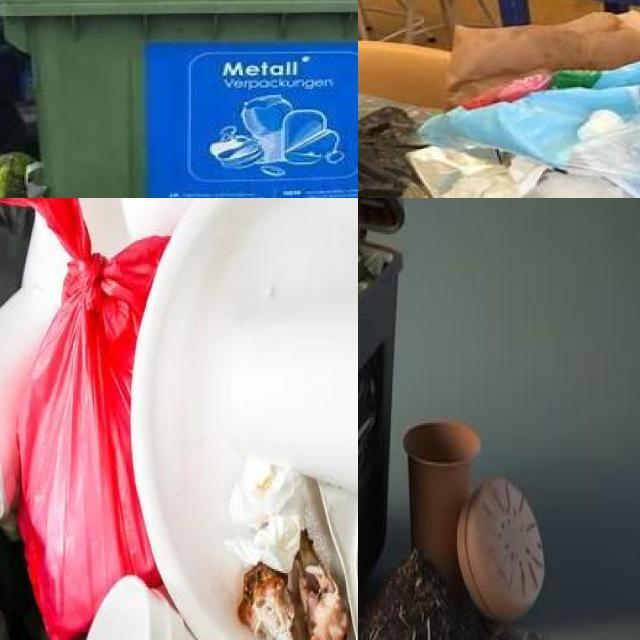Disposable: (135, 198, 358, 640), (232, 300, 358, 491), (0, 284, 58, 520), (86, 577, 197, 640), (320, 482, 358, 640), (22, 215, 68, 303), (79, 198, 132, 257)
Garbage: (0, 198, 358, 640), (358, 11, 640, 198)
Plastic: (421, 61, 640, 198)
Plastic_Bag: (0, 198, 168, 640)
